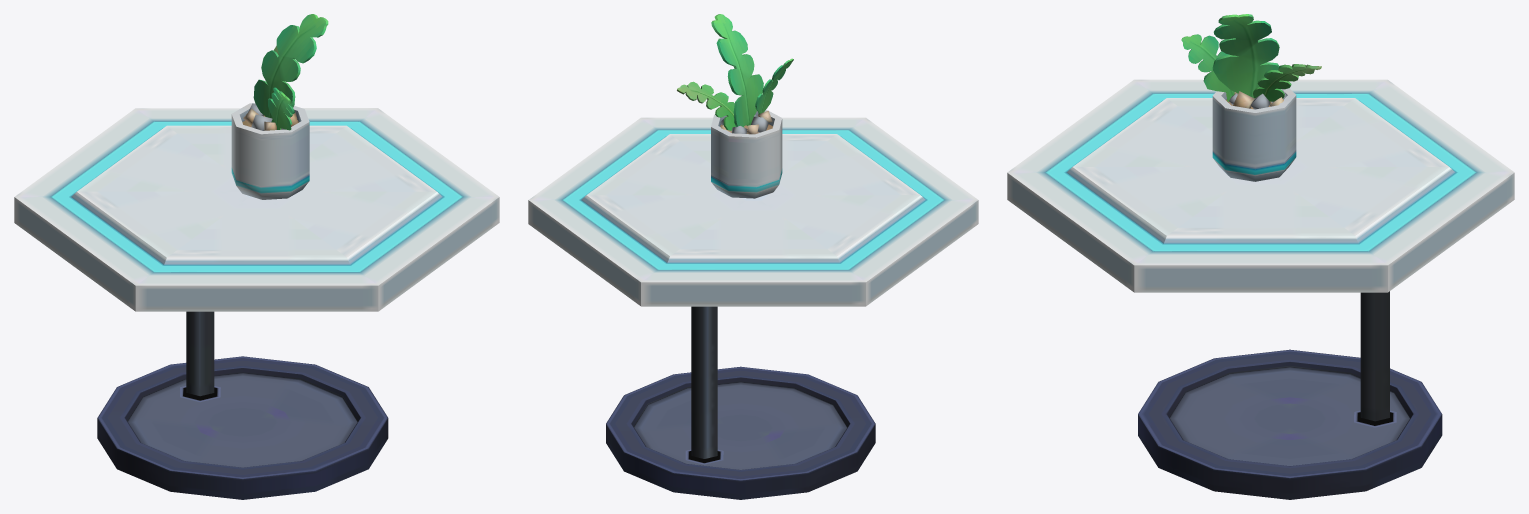
File: my_millenniumlounge_01_table_01.glb
3 views of the same model, side by side, from view 1: azimuth 30°, elevation 25°; view 2: azimuth 150°, elevation 25°; view 3: azimuth 270°, elevation 25° (orthographic). The views are drawn at different scales.
Parts seen in each view (by area): view 1: my_millenniumlounge_01_table_01; view 2: my_millenniumlounge_01_table_01; view 3: my_millenniumlounge_01_table_01.
Boxes of the visible parts, x1=… form: my_millenniumlounge_01_table_01: x1=14, y1=14, x2=499, y2=499; my_millenniumlounge_01_table_01: x1=528, y1=14, x2=978, y2=499; my_millenniumlounge_01_table_01: x1=1007, y1=14, x2=1514, y2=499.
Bounding box in the file's own units: 0.00494 × 0.00555 × 0.0057.
2 materials, 2 textured.
